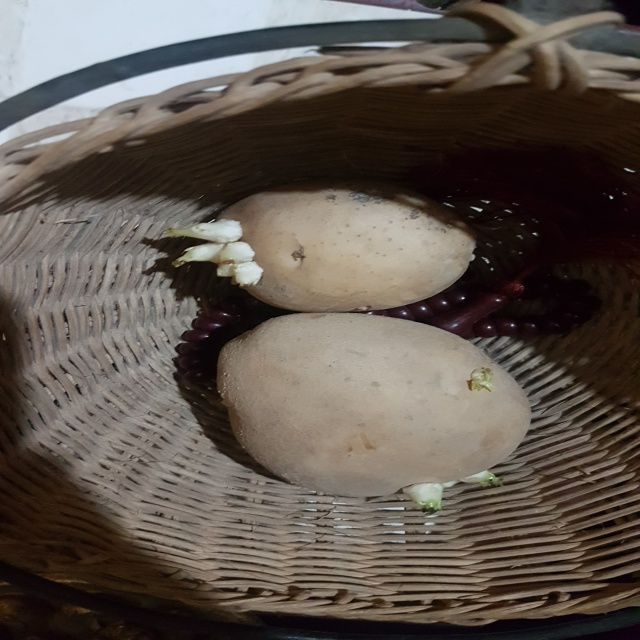potato: (204, 312, 540, 515), (167, 179, 496, 317)
